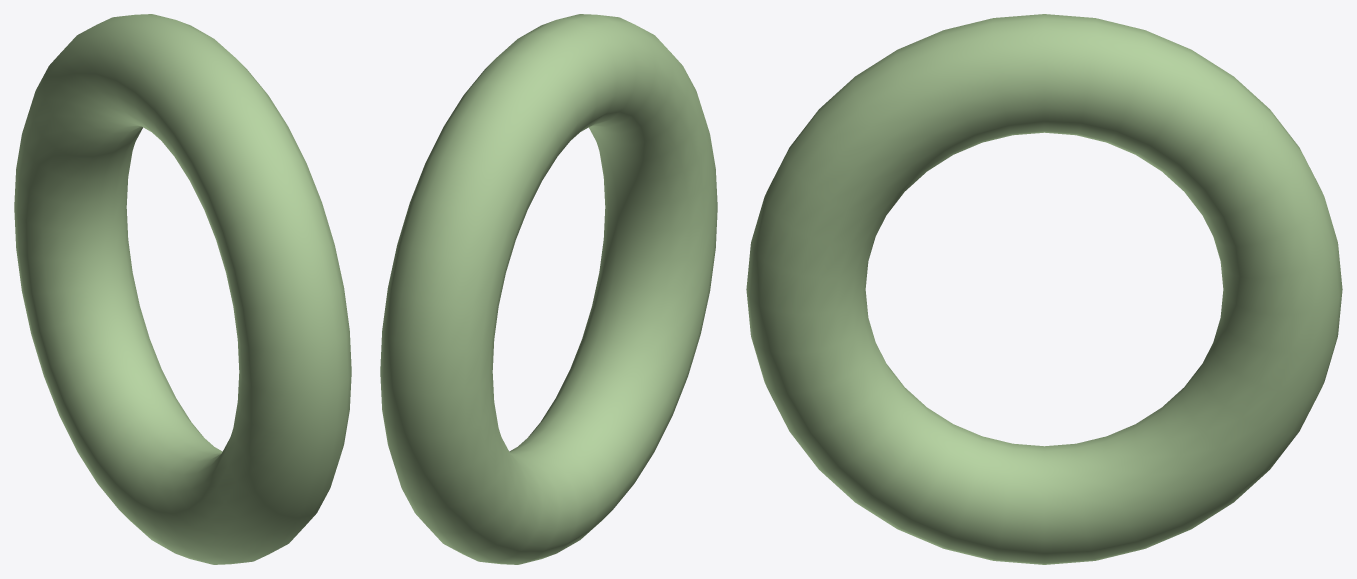
3 renders of one model, left to right at view 1: azimuth 30°, elevation 25°; view 2: azimuth 150°, elevation 25°; view 3: azimuth 270°, elevation 25°, orthographic. The views are drawn at different scales.
Visible parts, largest first — view 1: Torus; view 2: Torus; view 3: Torus.
Part boxes in pixels (left/top/right/bottom): Torus: left=14, top=14, right=351, bottom=564; Torus: left=380, top=14, right=717, bottom=564; Torus: left=746, top=14, right=1342, bottom=564.
Size of the model in its own units: 98.48 by 500 by 500.
